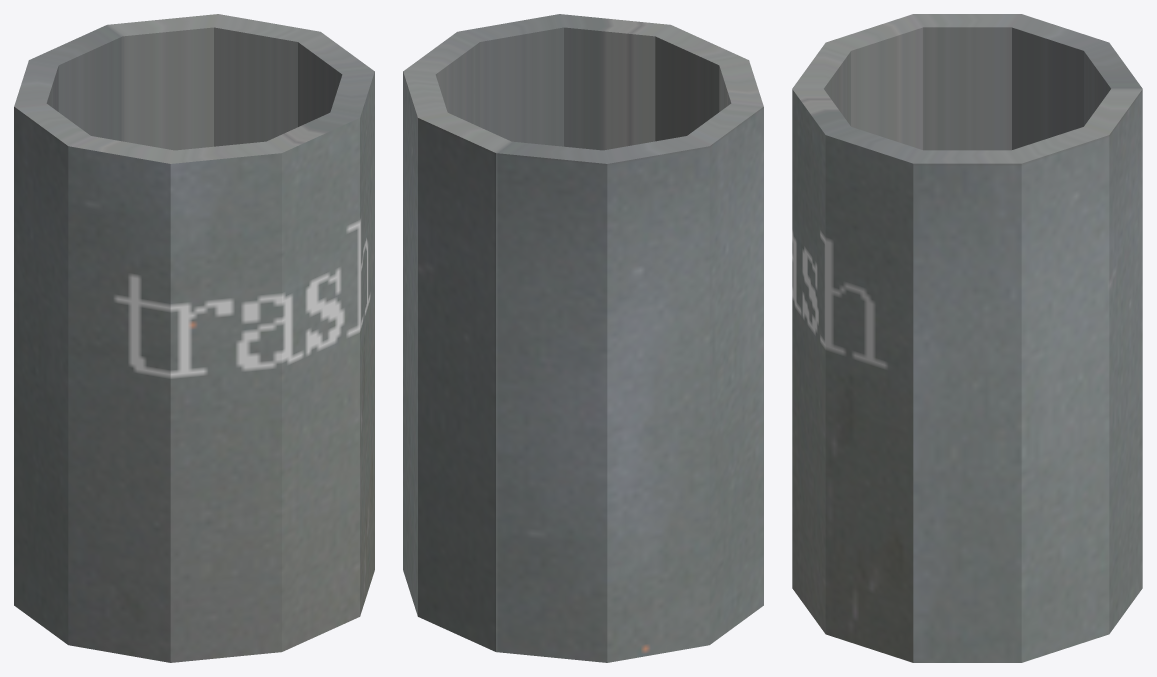
Rendered from trashbin.fbx.
3 renders of one model, left to right at view 1: azimuth 30°, elevation 25°; view 2: azimuth 150°, elevation 25°; view 3: azimuth 270°, elevation 25°, orthographic.
Parts seen in each view (by area): view 1: Cylinder; view 2: Cylinder; view 3: Cylinder.
Boxes of the visible parts, x1=… form: Cylinder: x1=14, y1=14, x2=374, y2=662; Cylinder: x1=403, y1=14, x2=763, y2=662; Cylinder: x1=792, y1=14, x2=1142, y2=662.
Bounding box in the file's own units: 129 × 200 × 127.
